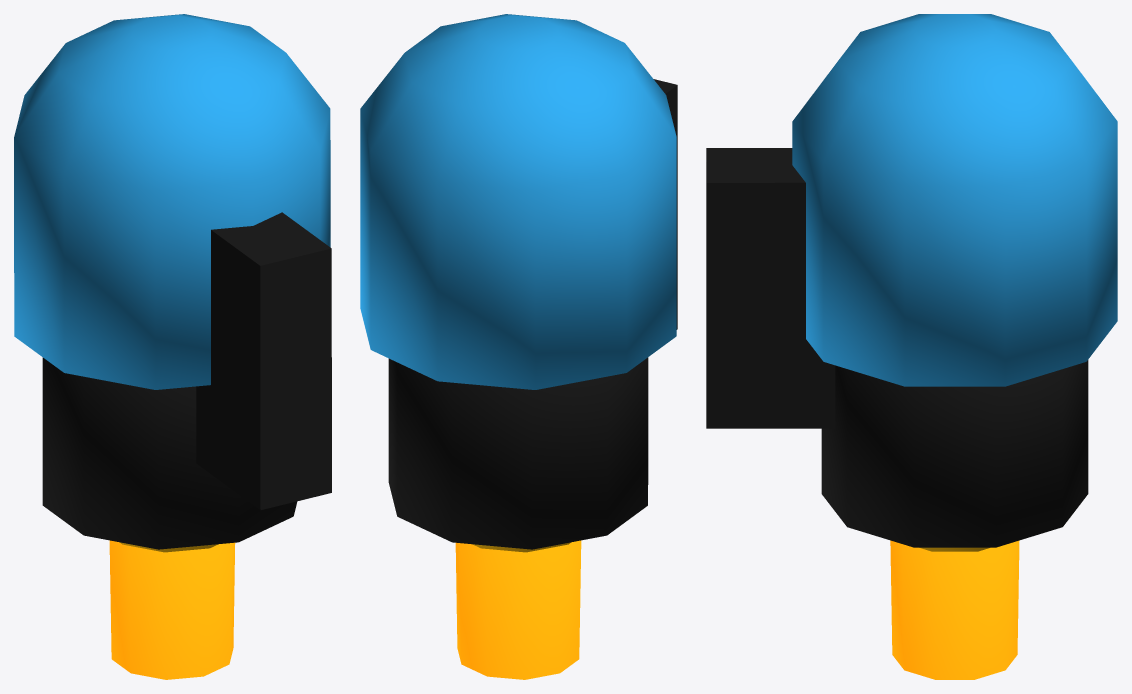
File: directional.glb
3 views of the same model, side by side, from view 1: azimuth 30°, elevation 25°; view 2: azimuth 150°, elevation 25°; view 3: azimuth 270°, elevation 25° (orthographic).
Visible parts, largest first — view 1: Cylinder.024, boost-part.003; view 2: Cylinder.024, boost-part.003; view 3: Cylinder.024, boost-part.003.
Part boxes in pixels (x1,y1,x2,y2): Cylinder.024: [14, 14, 331, 552]; boost-part.003: [109, 540, 235, 679]; Cylinder.024: [360, 14, 677, 552]; boost-part.003: [455, 540, 581, 679]; Cylinder.024: [706, 14, 1117, 551]; boost-part.003: [890, 540, 1019, 679].
Size of the model in its own units: 0.1072 by 0.2387 by 0.1426.
